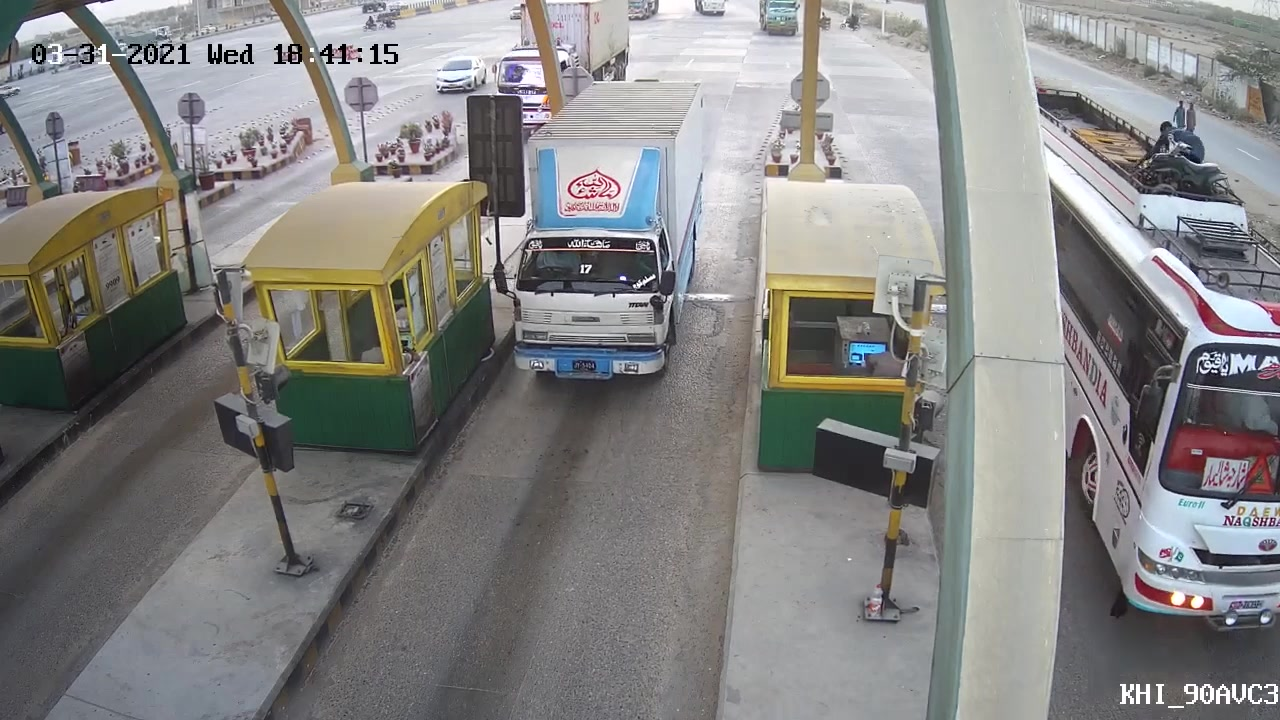F5: (488, 71, 724, 392)
